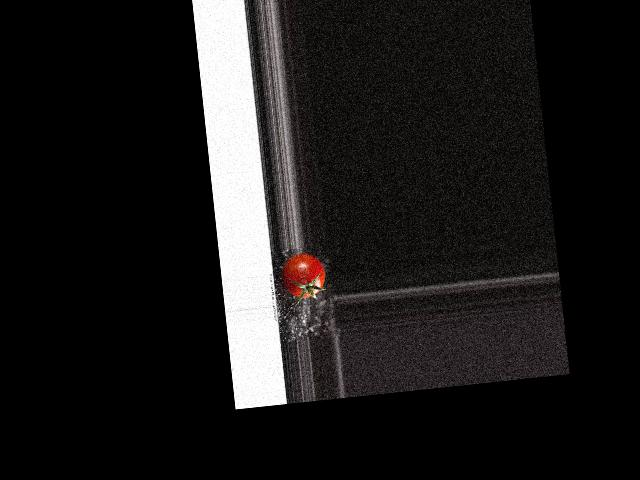tomato: (280, 252, 327, 300)
